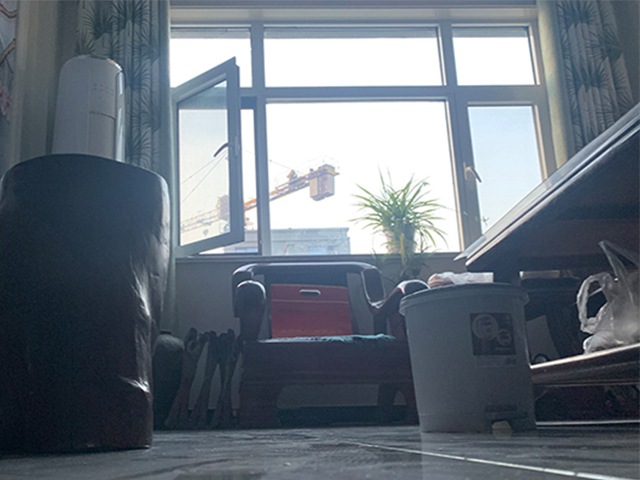sofa: (229, 262, 431, 430)
stool: (1, 152, 170, 451), (165, 327, 238, 431)
table: (453, 102, 640, 408)
trashcan: (398, 281, 539, 436)
